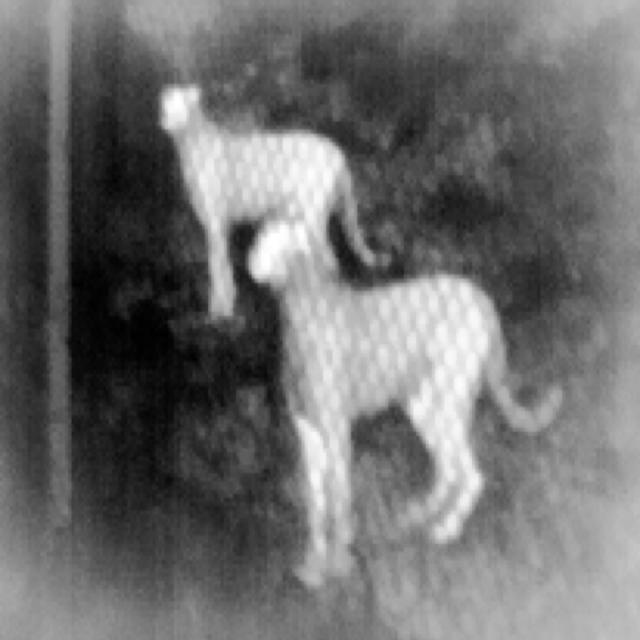cheetah: (248, 215, 561, 586), (160, 86, 390, 320)
